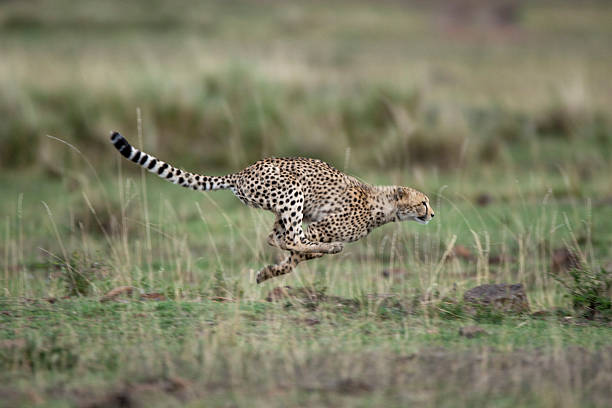cheetah: (383, 180, 445, 235)
